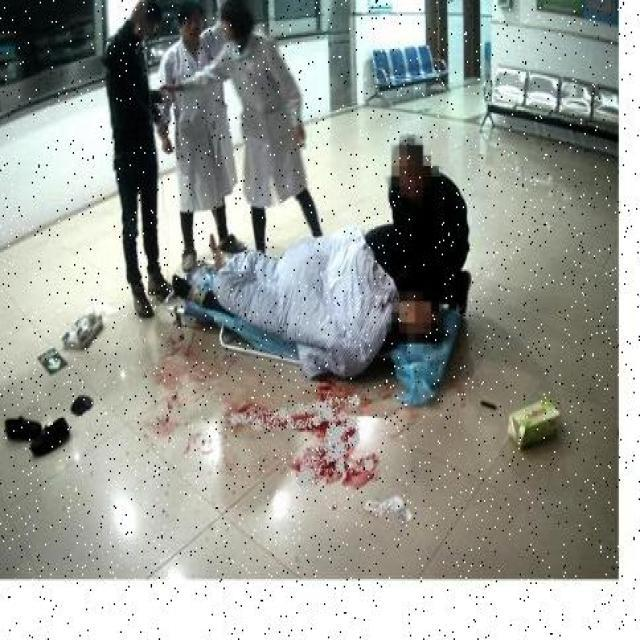fall: (192, 234, 436, 360)
